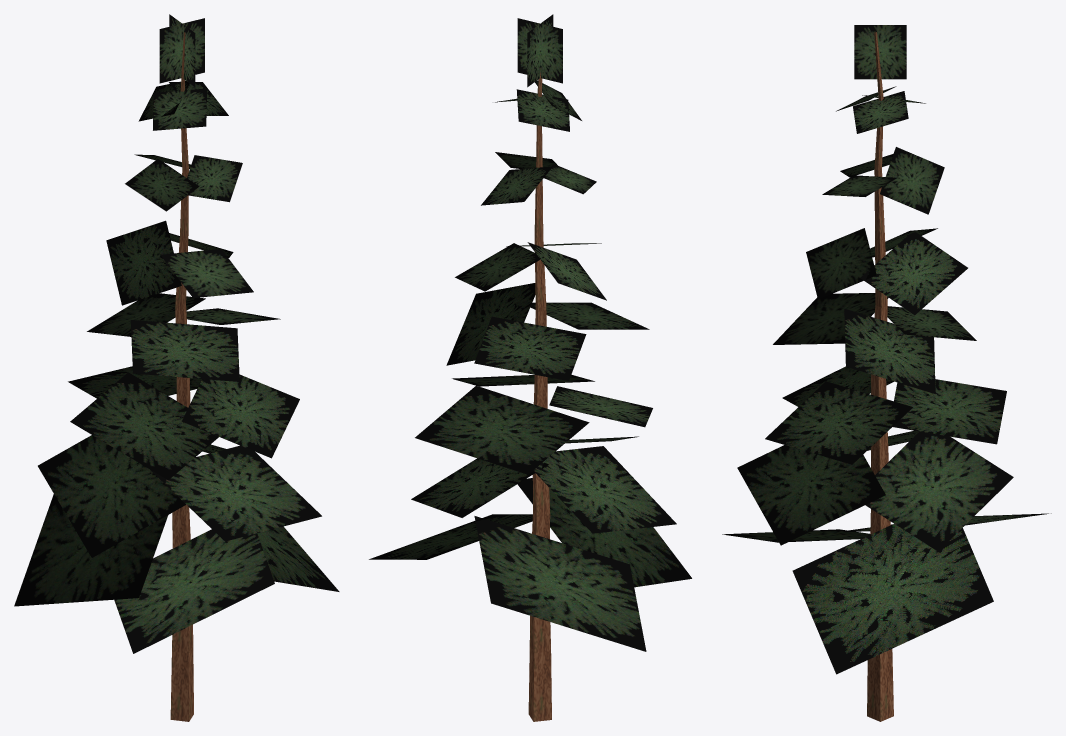
The model's file is Pine_3_LOD2.gltf.
3 views of the same model, side by side, from view 1: azimuth 30°, elevation 25°; view 2: azimuth 150°, elevation 25°; view 3: azimuth 270°, elevation 25° (orthographic).
Parts seen in each view (by area): view 1: Pine_3_LOD2; view 2: Pine_3_LOD2; view 3: Pine_3_LOD2.
Boxes of the visible parts, x1,y1,x2,y2 form: Pine_3_LOD2: (14, 14, 339, 721); Pine_3_LOD2: (369, 14, 691, 721); Pine_3_LOD2: (722, 25, 1051, 721).
Size of the model in its own units: 8.31 by 20.19 by 8.76.
2 materials, 2 textured.
